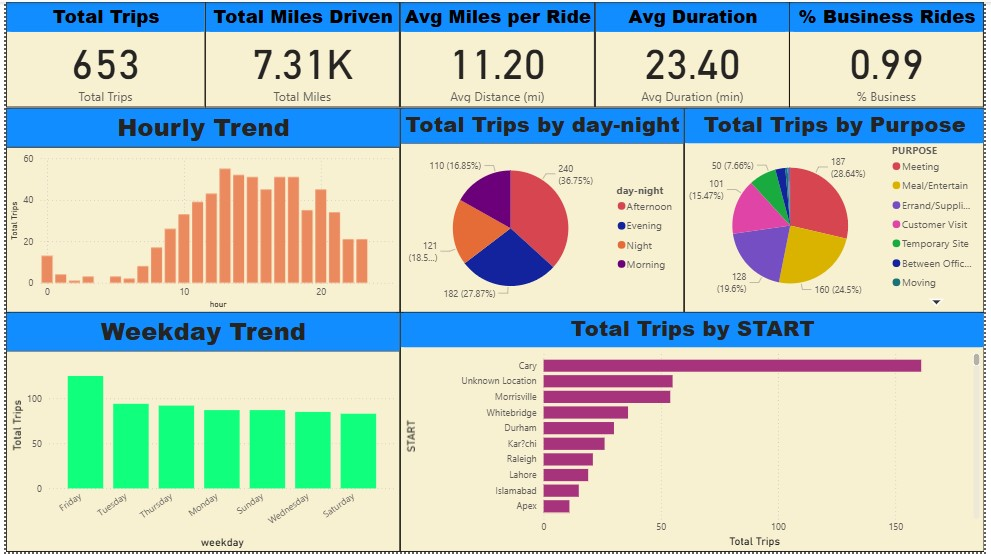

The dashboard page shown, as its layout file describes it:
{"tool":"powerbi","page":{"name":"Page 1","canvas":[1280,720],"ordinal":0},"visuals":[{"type":"card","title":"Total Miles Driven","fields":{"Values":["DateTable.Total Miles"]},"box":[260.6,0,254.9,138.2],"z":1},{"type":"card","title":"Avg Miles per Ride","fields":{"Values":["DateTable.Avg Distance (mi)"]},"box":[515.5,0,254.9,138.2],"z":2},{"type":"card","title":"Avg Duration ","fields":{"Values":["DateTable.Avg Duration (min)"]},"box":[770.4,0,254.9,138.2],"z":3},{"type":"card","title":"% Business Rides","fields":{"Values":["DateTable.% Business"]},"box":[1025.3,0,254.9,138.2],"z":4},{"type":"card","title":"Total Trips","fields":{"Values":["DateTable.Total Trips"]},"box":[0,0,260.6,138.2],"z":5},{"type":"columnChart","title":"Hourly Trend","fields":{"Category":["uber_clean.hour"],"Y":["DateTable.Total Trips"]},"box":[0,138.2,515.5,267.8],"z":6},{"type":"columnChart","title":"Weekday Trend","fields":{"Category":["uber_clean.weekday"],"Y":["DateTable.Total Trips"]},"box":[0,406.1,515.5,313.9],"z":7},{"type":"pieChart","fields":{"Y":["DateTable.Total Trips"],"Category":["uber_clean.day-night"]},"box":[515.5,138.2,371.5,267.8],"z":8},{"type":"pieChart","title":"Total Trips by Purpose","fields":{"Category":["uber_clean.PURPOSE"],"Y":["DateTable.Total Trips"]},"box":[887,138.2,393.1,267.8],"z":9},{"type":"clusteredBarChart","fields":{"Category":["uber_clean.START"],"Y":["DateTable.Total Trips"]},"box":[515.5,406.1,764.6,313.9],"z":10}]}

Visuals, with their boxes in screenshot pixels (x1, y1, x2, y2), scaled from the page's 1280x720 canvas onto the 991x554 screenshot:
"Total Miles Driven" card: rect(202, 0, 399, 106)
"Avg Miles per Ride" card: rect(399, 0, 596, 106)
"Avg Duration " card: rect(596, 0, 794, 106)
"% Business Rides" card: rect(794, 0, 990, 106)
"Total Trips" card: rect(0, 0, 202, 106)
"Hourly Trend" columnChart: rect(0, 106, 399, 312)
"Weekday Trend" columnChart: rect(0, 312, 399, 553)
pieChart - DateTable.Total Trips x uber_clean.day-night: rect(399, 106, 687, 312)
"Total Trips by Purpose" pieChart: rect(687, 106, 990, 312)
clusteredBarChart - uber_clean.START x DateTable.Total Trips: rect(399, 312, 990, 553)
